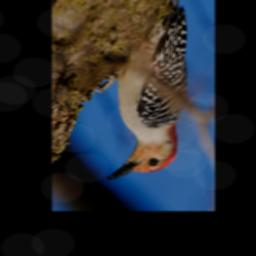Woodpecker: (105, 0, 187, 183)
